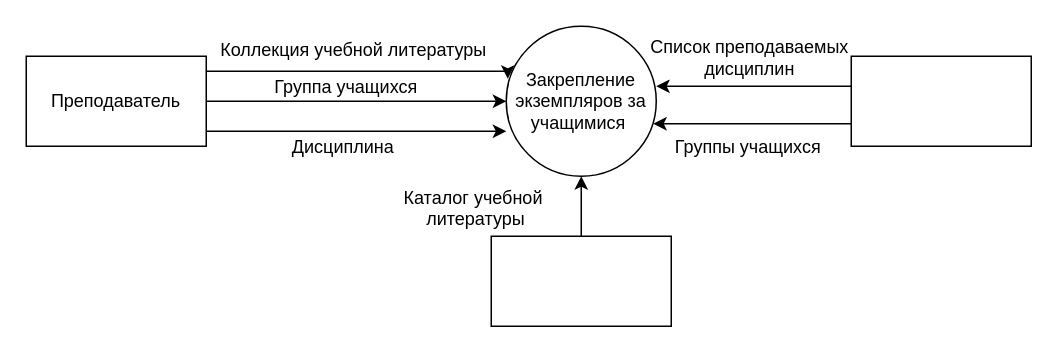
The diagram is 1058 pixels wide and 353 high, and some of its shapes have lost their labels. Here are the shapes that lost their labels. From the top down, the box of each, then its label:
(850, 55, 1031, 146): Администратор
(490, 235, 671, 326): Библиотекарь
